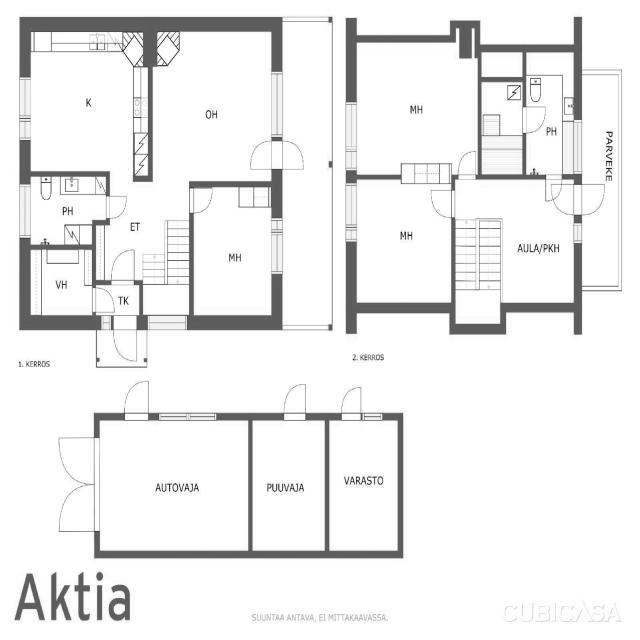door: (53, 430, 102, 540), (262, 136, 312, 173), (245, 136, 284, 175), (280, 380, 310, 422), (111, 321, 141, 363), (122, 378, 151, 421), (573, 181, 607, 217), (110, 246, 138, 286), (186, 183, 216, 217), (339, 384, 365, 422), (428, 186, 456, 221), (520, 103, 548, 138), (103, 192, 130, 223), (456, 148, 479, 180), (543, 172, 564, 205), (92, 286, 115, 316)
window: (268, 65, 288, 143), (15, 73, 34, 151), (342, 96, 360, 176), (342, 178, 361, 253), (267, 212, 286, 284), (15, 178, 34, 244), (154, 408, 222, 425), (570, 115, 586, 175), (142, 312, 190, 331), (570, 0, 586, 28), (572, 220, 584, 249), (362, 409, 384, 423)
zone: (95, 416, 251, 556), (151, 26, 277, 183), (350, 37, 480, 179), (24, 29, 150, 174), (353, 180, 453, 308), (192, 179, 278, 321), (251, 417, 328, 554), (327, 416, 400, 554), (524, 50, 577, 180), (25, 172, 107, 248), (24, 246, 95, 324), (472, 1, 580, 49), (479, 75, 524, 176)
